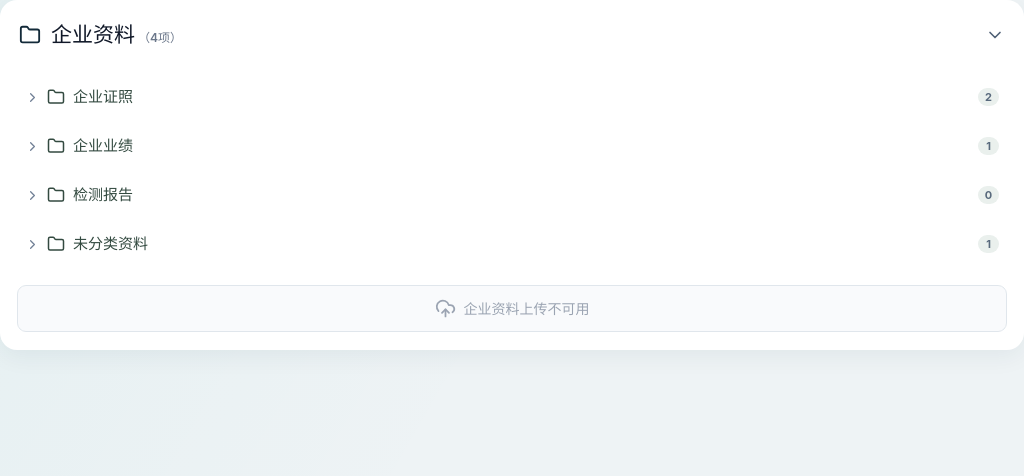
it: ProjectSourceRail › keeps archives in their backend category like the results sidebar
Click the button with aria-label "企业证照，2项" at (103, 96), box [17, 74, 1007, 120]
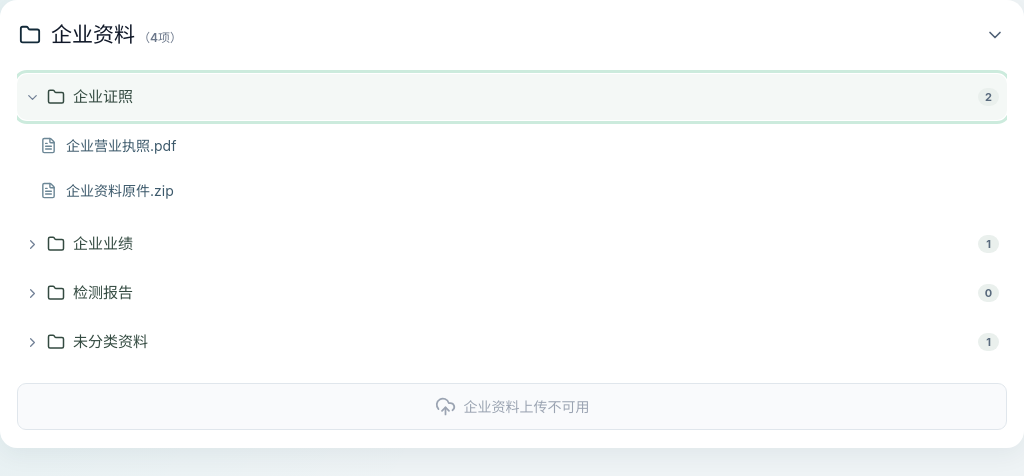
Now the button named "企业资料原件.zip" is shown, box [66, 174, 998, 206]
Now the button named "企业营业执照.pdf" is shown, box [66, 130, 998, 160]
